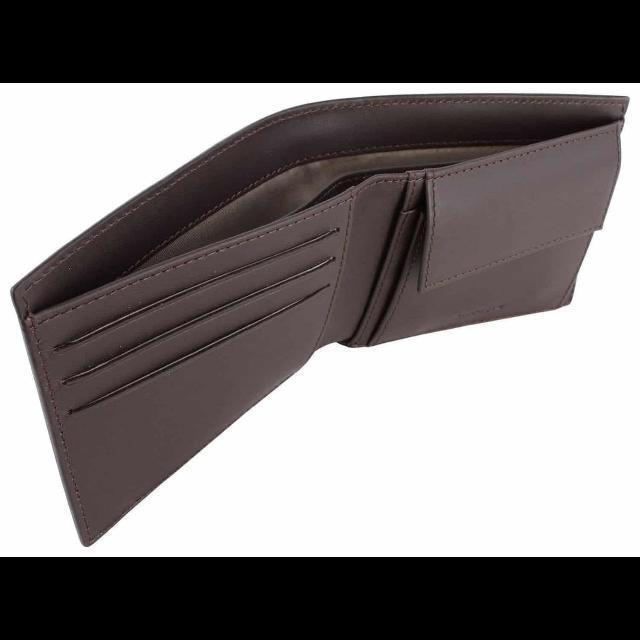wallet: (10, 87, 628, 546)
